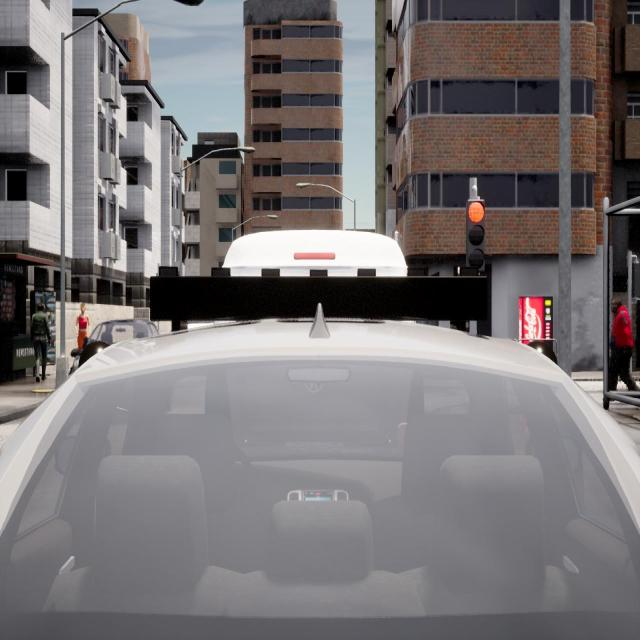Pedestrian: (608, 298, 638, 397), (28, 299, 50, 382), (75, 302, 88, 352)
Vehicle: (0, 319, 640, 636), (220, 232, 404, 280), (70, 322, 158, 376)
traffic_light: (466, 200, 486, 268), (632, 263, 640, 295)
